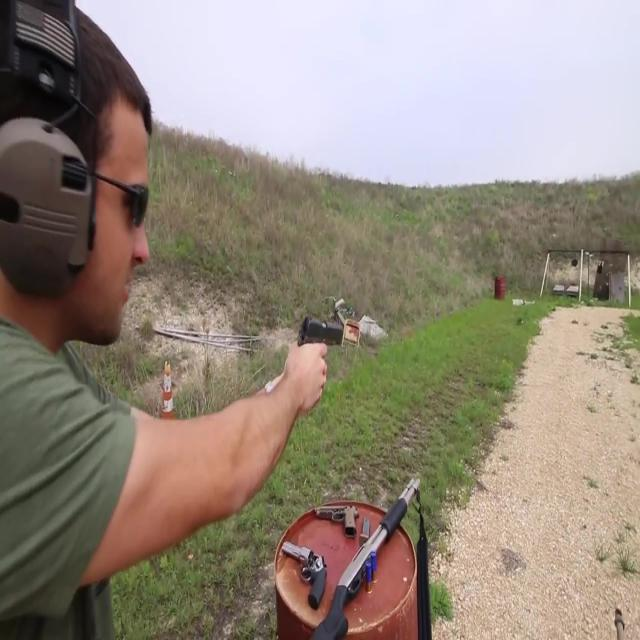Weapon: (273, 464, 435, 639), (274, 292, 354, 382)
